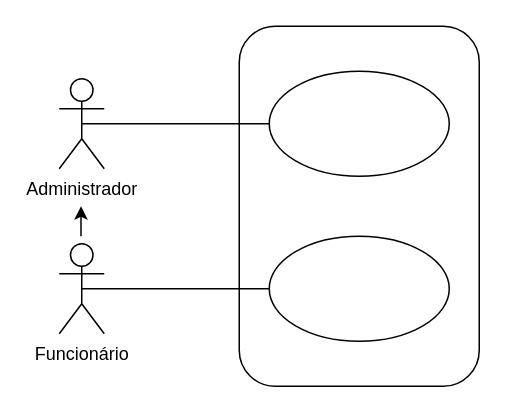
Some shapes in this 506 by 413 pixel diagram are drawn without their labels. The shapes that lost their labels are listed below. From the top down, each one's centre as x and y in pixels, then its label:
the point at 358,123: Editar Atendido
the point at 358,288: Consultar Atendido
